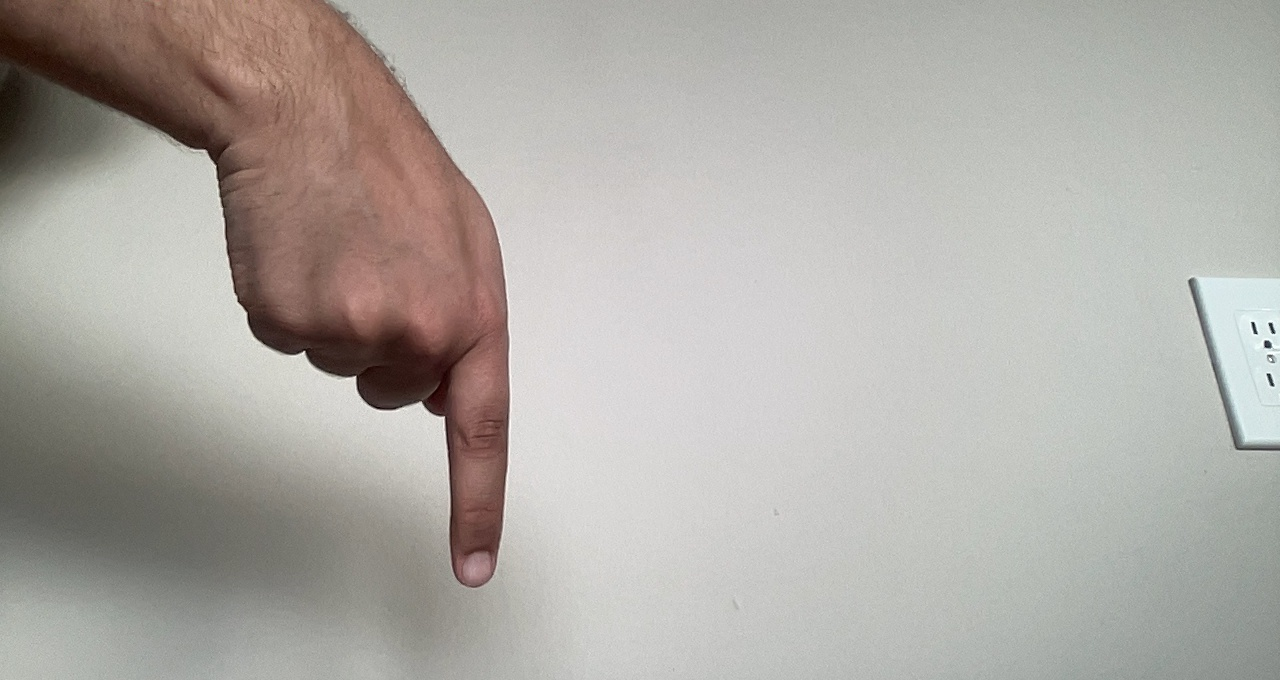fingerdown: (195, 59, 509, 587)
